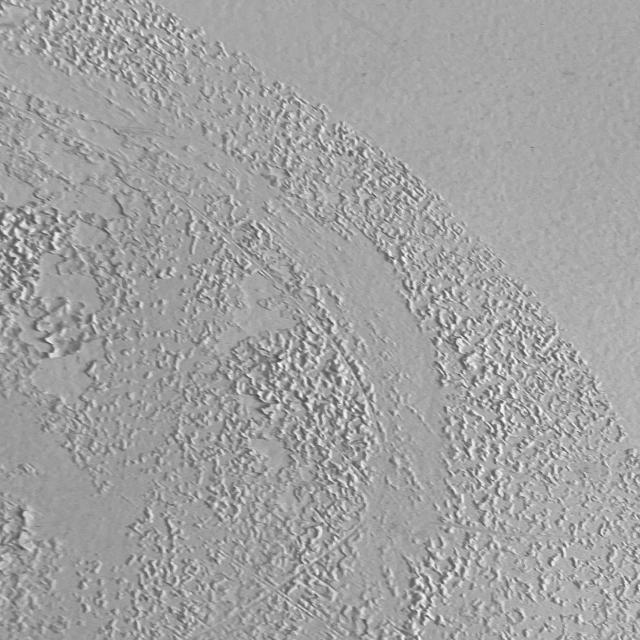rough and patchy surface: (3, 1, 635, 640)
